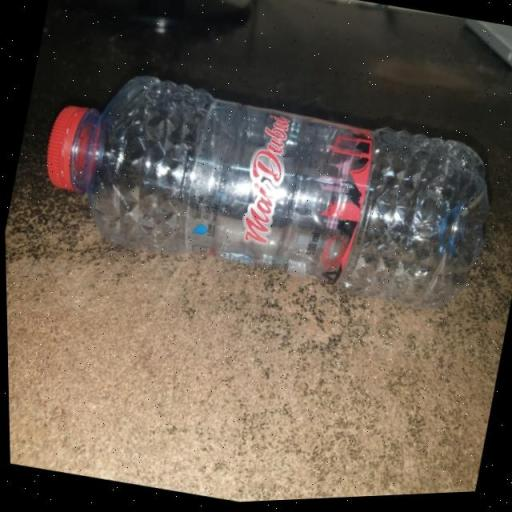plastic: (18, 40, 504, 342)
